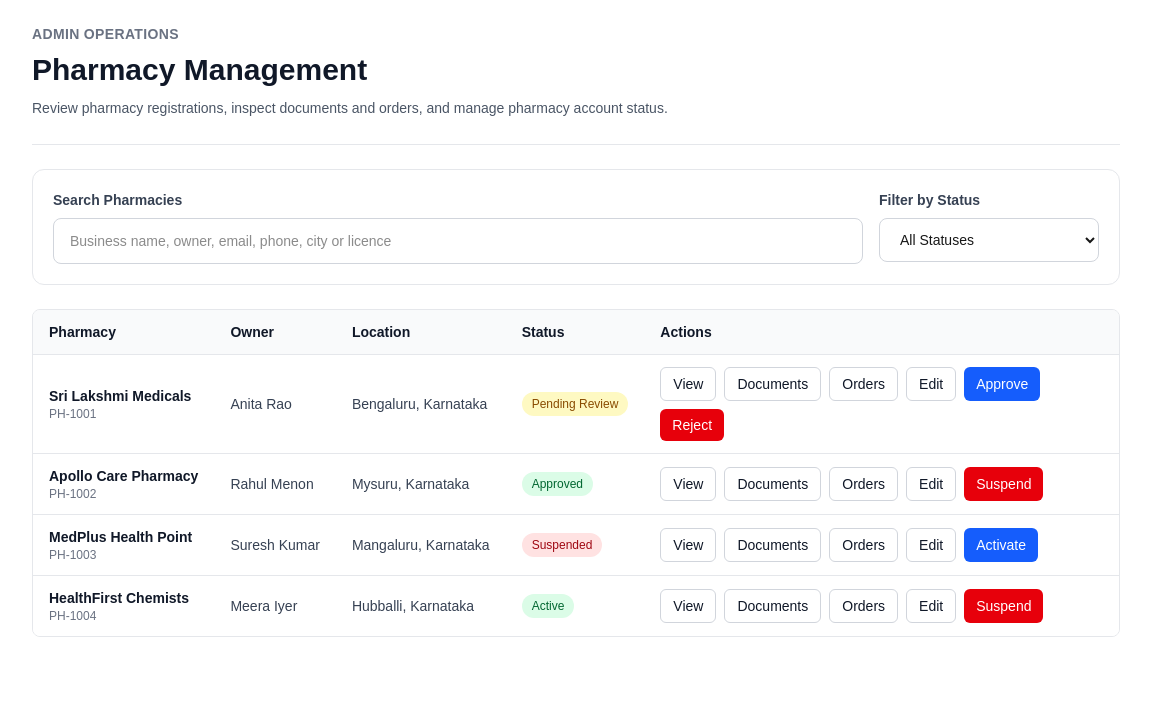
Test: Pharmacy Management integration › shows pharmacy documents and orders
The image size is (1152, 720).
Step 1. Click the button "Documents" in the row of "Sri Lakshmi Medicals" → (773, 384), box [724,367,821,401]
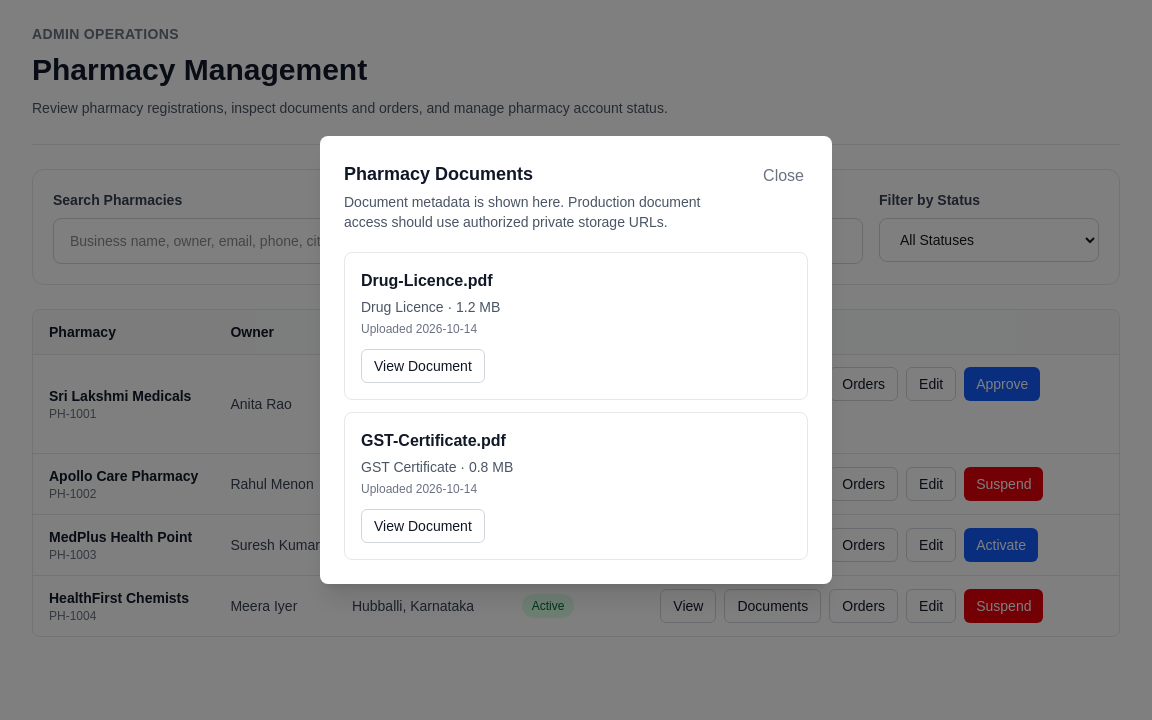
Result: the heading "Pharmacy Documents" is shown at [344,164,533,184]
Result: the text "Drug-Licence.pdf" is shown at [361,272,493,289]
Step 2. Click the button with aria-label "Close modal" → (784, 176), box [759,160,808,192]
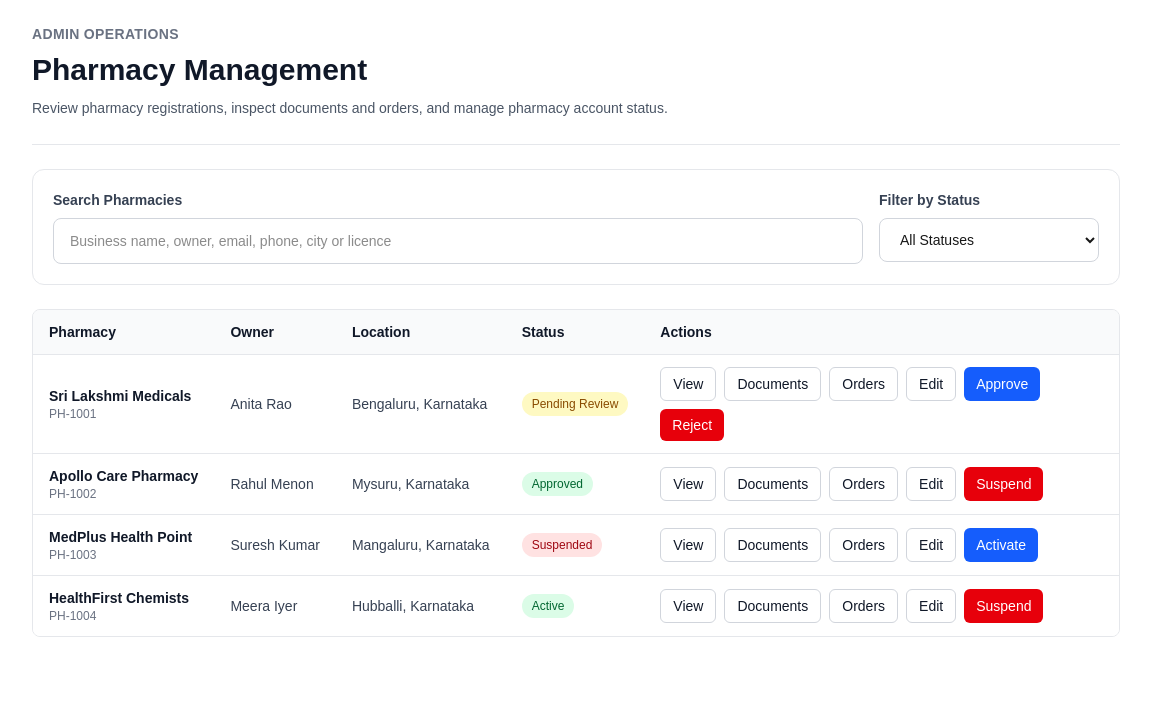
Step 3. Click the button "Orders" in the row of "Sri Lakshmi Medicals" → (864, 384), box [829,367,898,401]
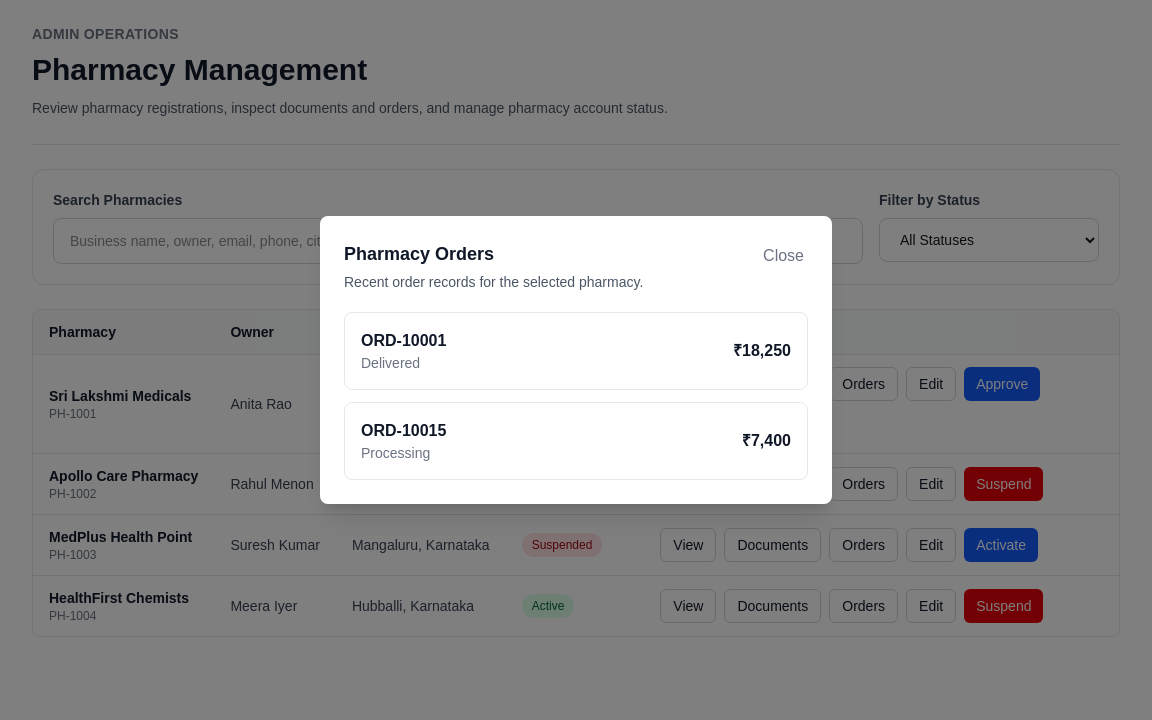
Result: the heading "Pharmacy Orders" is shown at [344,244,494,264]
Result: the text "ORD-10001" is shown at [361,329,446,353]
